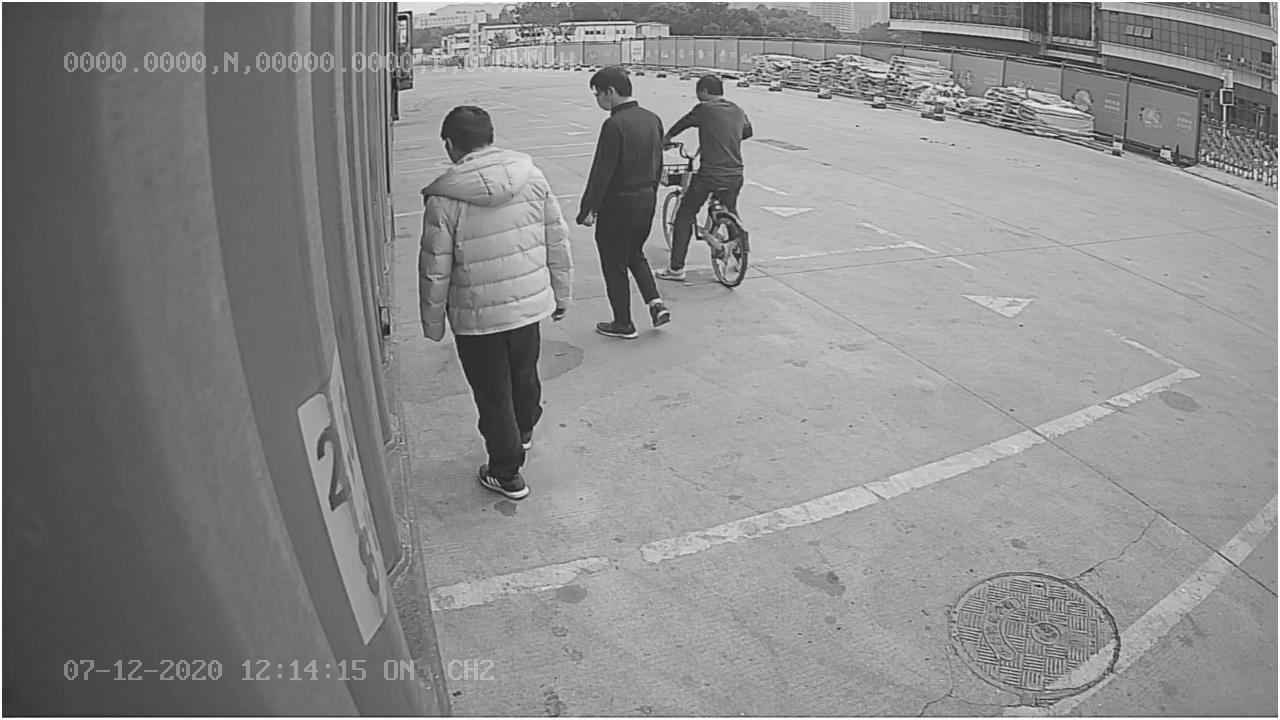person: (573, 56, 671, 341)
